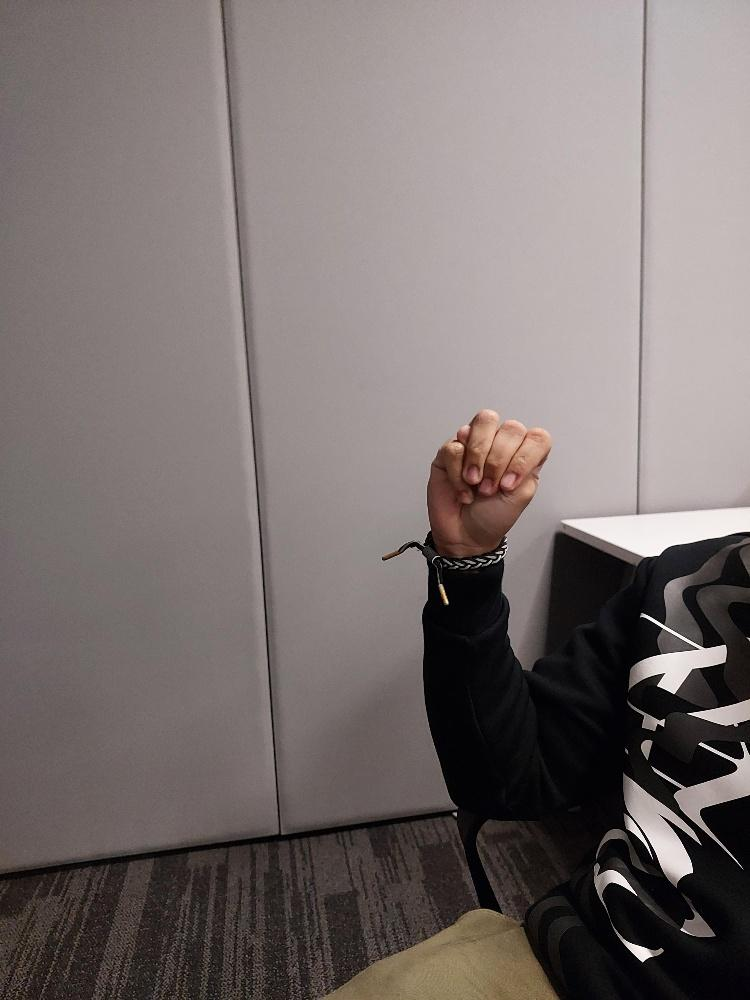m: (426, 406, 551, 547)
